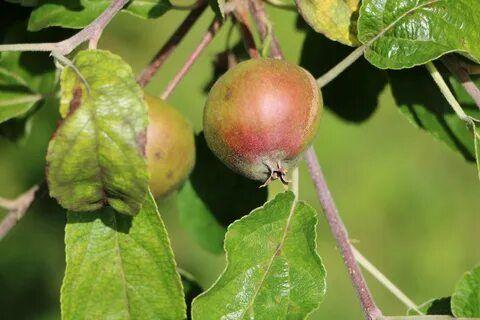Apple: (204, 59, 322, 181)
